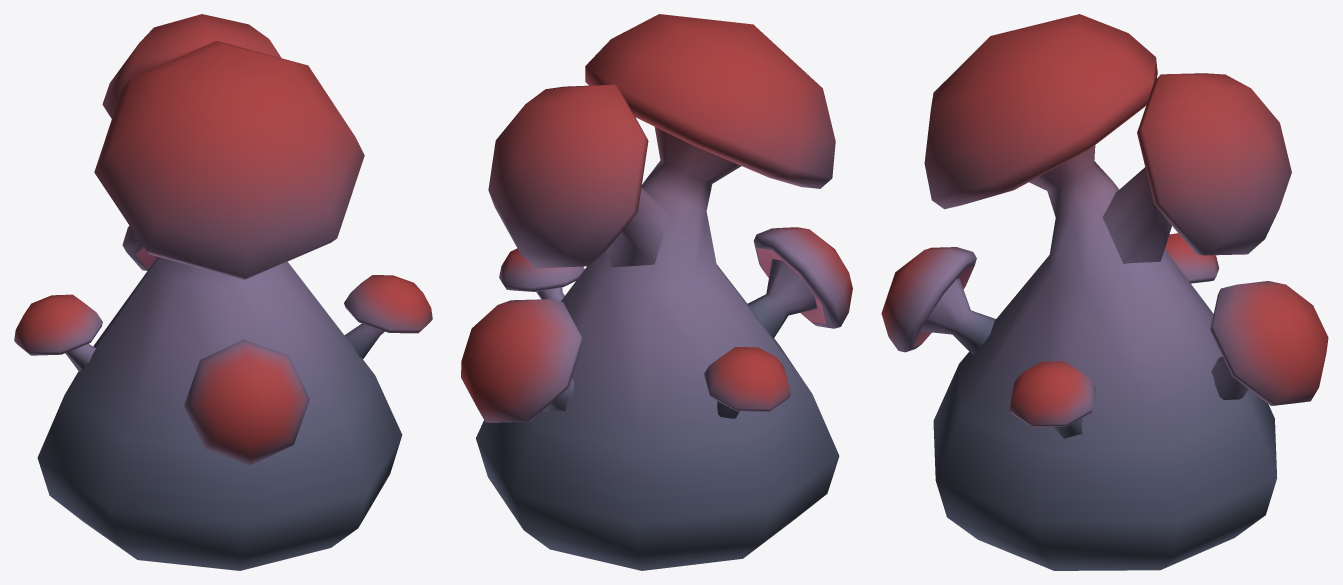
The model's file is mushrooms17.fbx.
3 views of the same model, side by side, from view 1: azimuth 30°, elevation 25°; view 2: azimuth 150°, elevation 25°; view 3: azimuth 270°, elevation 25° (orthographic).
Visible parts, largest first — view 1: mushrooms17; view 2: mushrooms17; view 3: mushrooms17.
Boxes of the visible parts, <box> form: mushrooms17: <box>14,14,432,570</box>; mushrooms17: <box>461,14,852,570</box>; mushrooms17: <box>881,14,1328,570</box>.
Size of the model in its own units: 299 by 410 by 337.
1 material, 1 textured.
